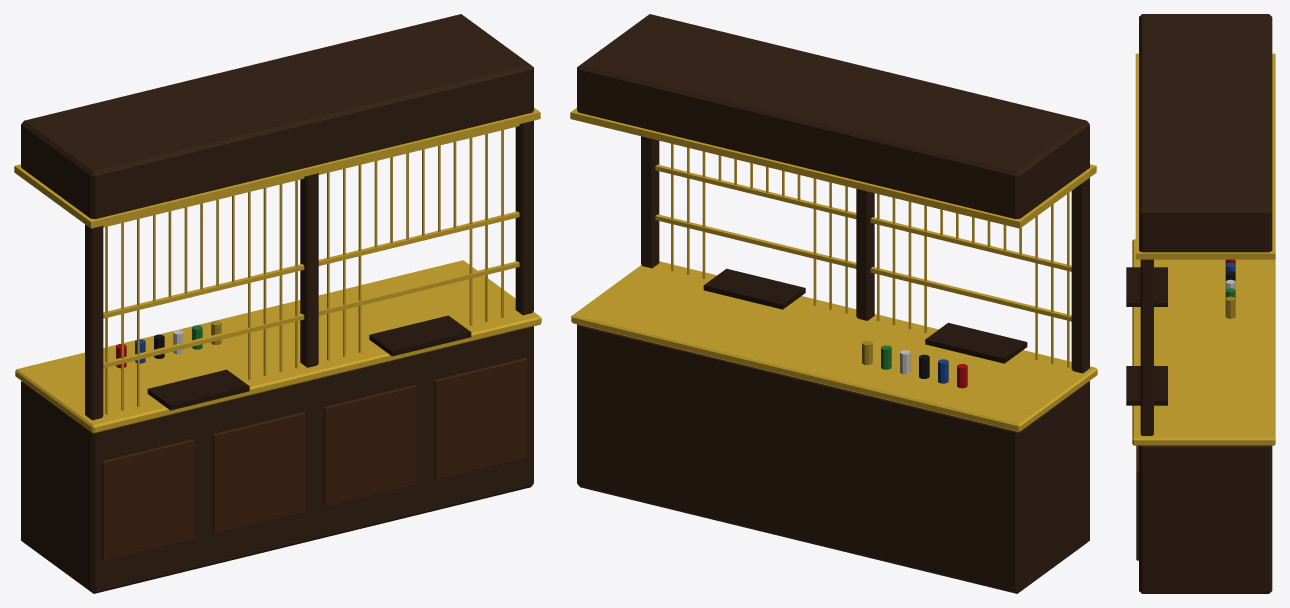
Rendered from casino_cage.glb.
3 renders of one model, left to right at view 1: azimuth 30°, elevation 25°; view 2: azimuth 150°, elevation 25°; view 3: azimuth 270°, elevation 25°, orthographic. The views are drawn at different scales.
Visible parts, largest first — view 1: casino_cage; view 2: casino_cage; view 3: casino_cage.
Boxes of the visible parts, x1,y1,x2,y2 form: casino_cage: [14, 14, 541, 593]; casino_cage: [570, 14, 1097, 593]; casino_cage: [1126, 14, 1275, 593].
Bounding box in the file's own units: 2.84 × 2.55 × 0.895.
